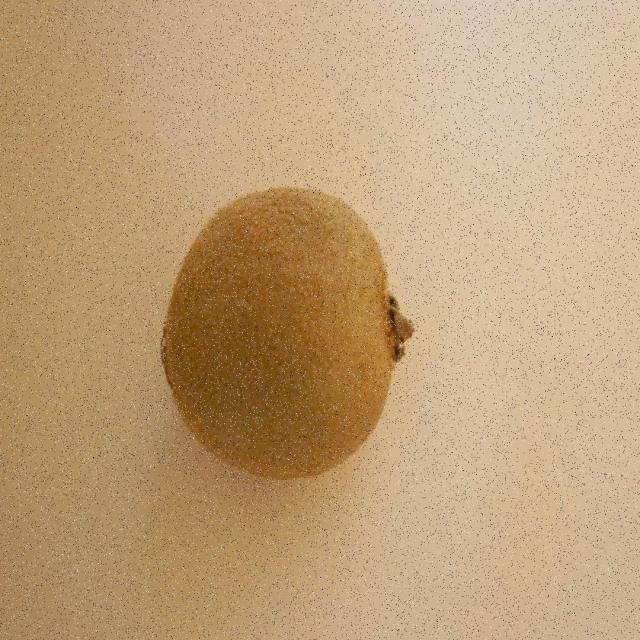Kiwi: (158, 187, 415, 483)
